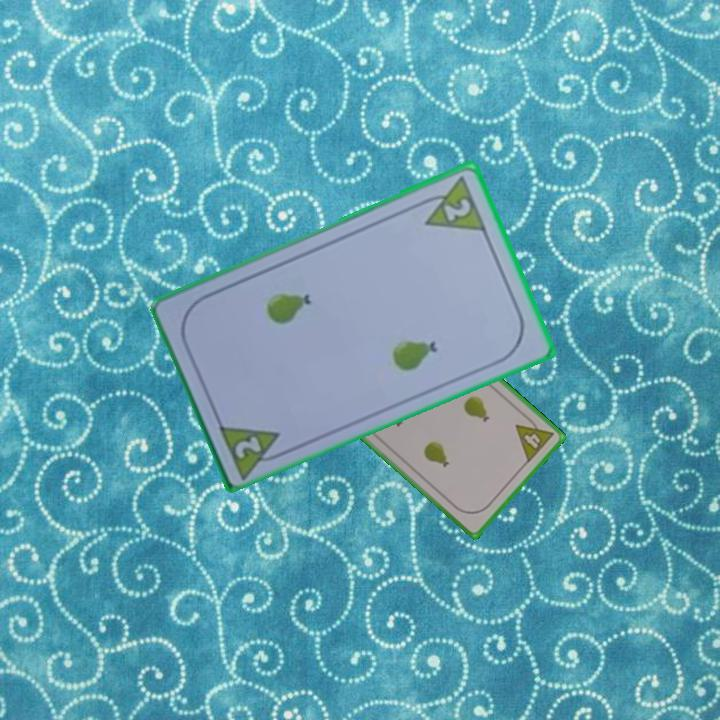2p: (414, 171, 490, 234), (231, 431, 265, 462)
4p: (512, 411, 557, 466)
